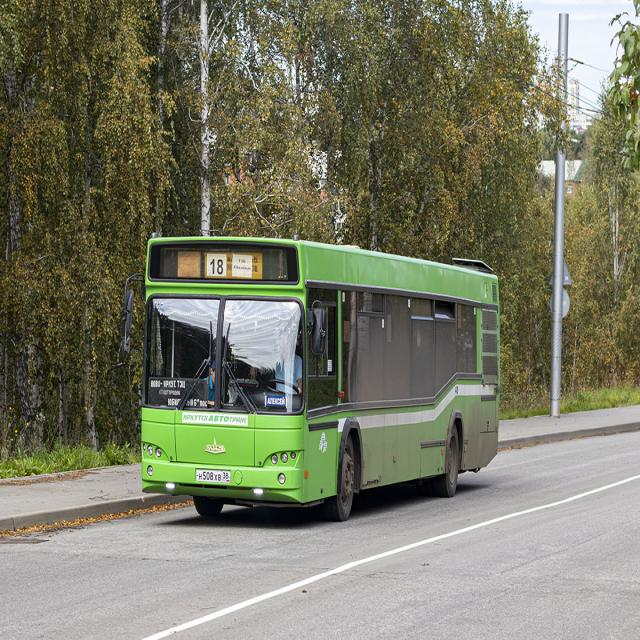number-of-bus: (210, 258, 227, 278)
